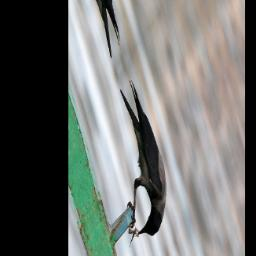Crow: (99, 66, 176, 256)
